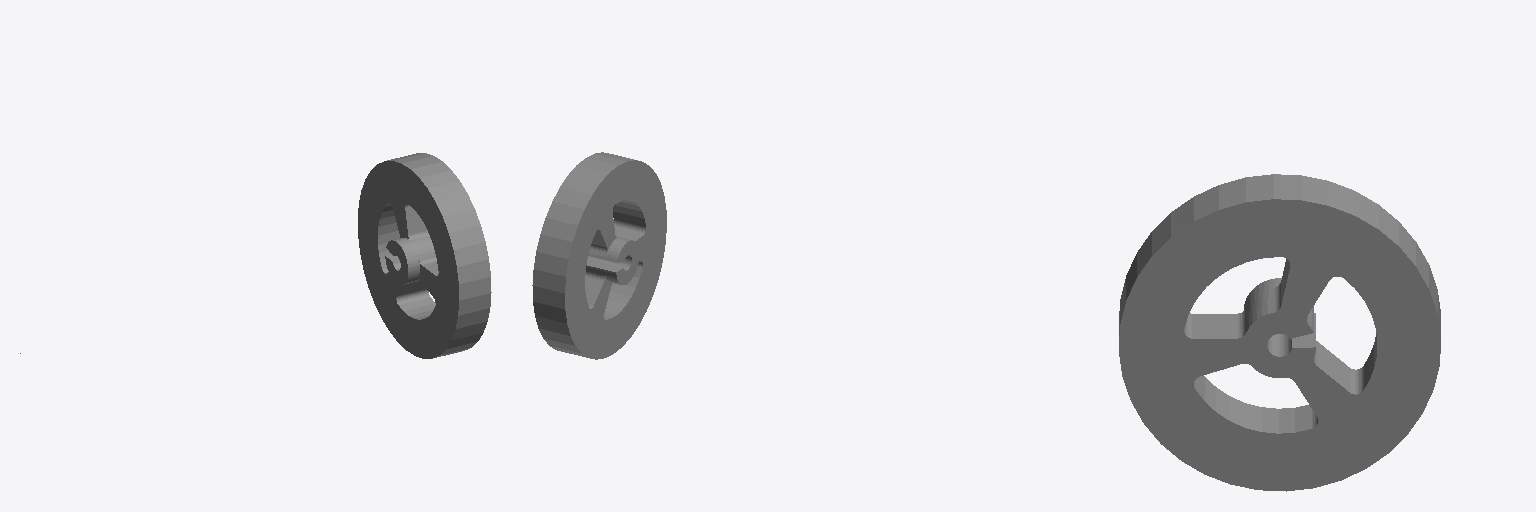
The robot description file, URDF, robot "simbot_description":
<?xml version="1.0" encoding="utf-8"?>
<!-- This URDF was automatically created by SolidWorks to URDF Exporter! Originally created by [author] ([email redacted]) 
     Commit Version: 1.6.0-4-g7f85cfe  Build Version: 1.6.7995.38578
     For more information, please see http://wiki.ros.org/sw_urdf_exporter -->
<robot
  name="simbot_description">
  <link
    name="base_link">
    <inertial>
      <origin
        xyz="0.019 0.022 0.075"
        rpy="0 0 0" />
      <mass
        value="0.018147" />
      <inertia
        ixx="7.8262E-06"
        ixy="-2.8236E-08"
        ixz="-2.5734E-07"
        iyy="1.2262E-05"
        iyz="-4.9201E-08"
        izz="6.6825E-06" />
    </inertial>
    <visual>
      <origin
        xyz="0 0 0"
        rpy="0 0 0" />
      <geometry>
        <mesh
          filename="package://simbot_description/meshes/base_link.obj" />
      </geometry>
      <material
        name="">
        <color
          rgba="0.79216 0.81961 0.93333 1" />
      </material>
    </visual>
    <collision>
      <origin
        xyz="0 0 0"
        rpy="0 0 0" />
      <geometry>
        <mesh
          filename="package://simbot_description/meshes/base_link.obj" />
      </geometry>
    </collision>
  </link>
  <link
    name="wheel_right">
    <inertial>
      <origin
        xyz="5.40936892195337E-06 0.0053866273434393 1.77401586527737E-05"
        rpy="0 0 0" />
      <mass
        value="0.0045744445105682" />
      <inertia
        ixx="4.12952648526462E-07"
        ixy="2.53188566302057E-11"
        ixz="6.72430688651993E-11"
        iyy="7.92972035023719E-07"
        iyz="8.30338141117647E-11"
        izz="4.13152669920294E-07" />
    </inertial>
    <visual>
      <origin
        xyz="0 0 0"
        rpy="0 0 0" />
      <geometry>
        <mesh
          filename="package://simbot_description/meshes/wheel_right.obj" />
      </geometry>
      <material
        name="">
        <color
          rgba="0.6 0.6 0.6 1" />
      </material>
    </visual>
    <collision>
      <origin
        xyz="0 0 0"
        rpy="0 0 0" />
      <geometry>
        <mesh
          filename="package://simbot_description/meshes/wheel_right.obj" />
      </geometry>
    </collision>
  </link>
  <joint
    name="motor_right_wheel"
    type="continuous">
    <origin
      xyz="-0.018259 -0.064898 0.039989"
      rpy="-3.1416 -1.4054 -1.5701" />
    <parent
      link="base_link" />
    <child
      link="wheel_right" />
    <axis
      xyz="0 1 0" />
  </joint>
  <link
    name="wheel_left">
    <inertial>
      <origin
        xyz="5.40936892195337E-06 0.00538663068975814 1.77401586527598E-05"
        rpy="0 0 0" />
      <mass
        value="0.0045744445105682" />
      <inertia
        ixx="4.12952648526462E-07"
        ixy="2.53188566302724E-11"
        ixz="6.72430688652125E-11"
        iyy="7.92972035023719E-07"
        iyz="8.30338141120147E-11"
        izz="4.13152669920294E-07" />
    </inertial>
    <visual>
      <origin
        xyz="0 0 0"
        rpy="0 0 0" />
      <geometry>
        <mesh
          filename="package://simbot_description/meshes/wheel_left.obj" />
      </geometry>
      <material
        name="">
        <color
          rgba="0.6 0.6 0.6 1" />
      </material>
    </visual>
    <collision>
      <origin
        xyz="0 0 0"
        rpy="0 0 0" />
      <geometry>
        <mesh
          filename="package://simbot_description/meshes/wheel_left.obj" />
      </geometry>
    </collision>
  </link>
  <joint
    name="motor_left_wheel"
    type="continuous">
    <origin
      xyz="0.057497 -0.065299 0.039989"
      rpy="0 1.4357 -1.5706" />
    <parent
      link="base_link" />
    <child
      link="wheel_left" />
    <axis
      xyz="0 1 0" />
  </joint>
</robot>

--- Render facts (derived) ---
3 views of the same robot in one strip: view 1: azimuth 30°, elevation 25°; view 2: azimuth 150°, elevation 25°; view 3: azimuth 270°, elevation 25° (orthographic).
Model simbot_description with 3 links and 2 joints (2 continuous), rooted at base_link, posed every joint at zero.
Visible links, largest first — view 1: wheel_left; view 2: wheel_left; view 3: wheel_left.
Link boxes in pixels (x1,y1,x2,y2): wheel_left: (358,153,491,358); wheel_left: (532,152,666,359); wheel_left: (1119,174,1440,491).
Size in the robot's own frame: 0.0821 by 0.0345 by 0.0345 metres.
Meshes: 3 distinct files referenced, 2 mesh visuals loaded (2 OBJ); not drawn: 1 (reference not matched to a file when rendering).